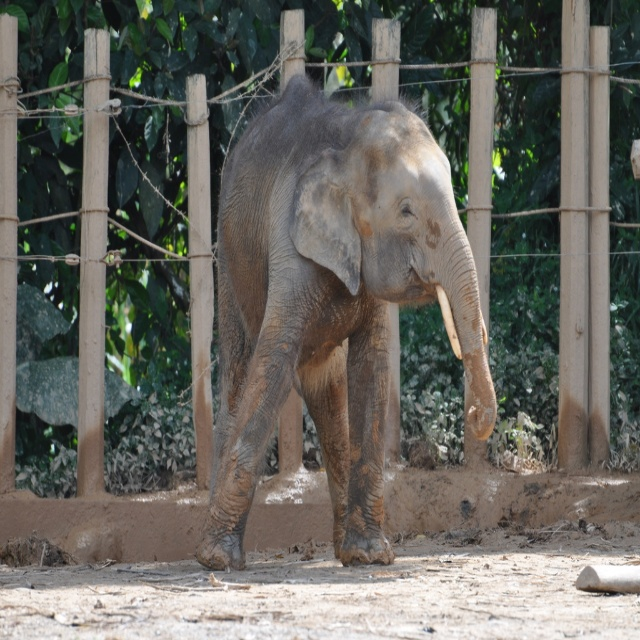Elephant: (189, 72, 494, 554)
